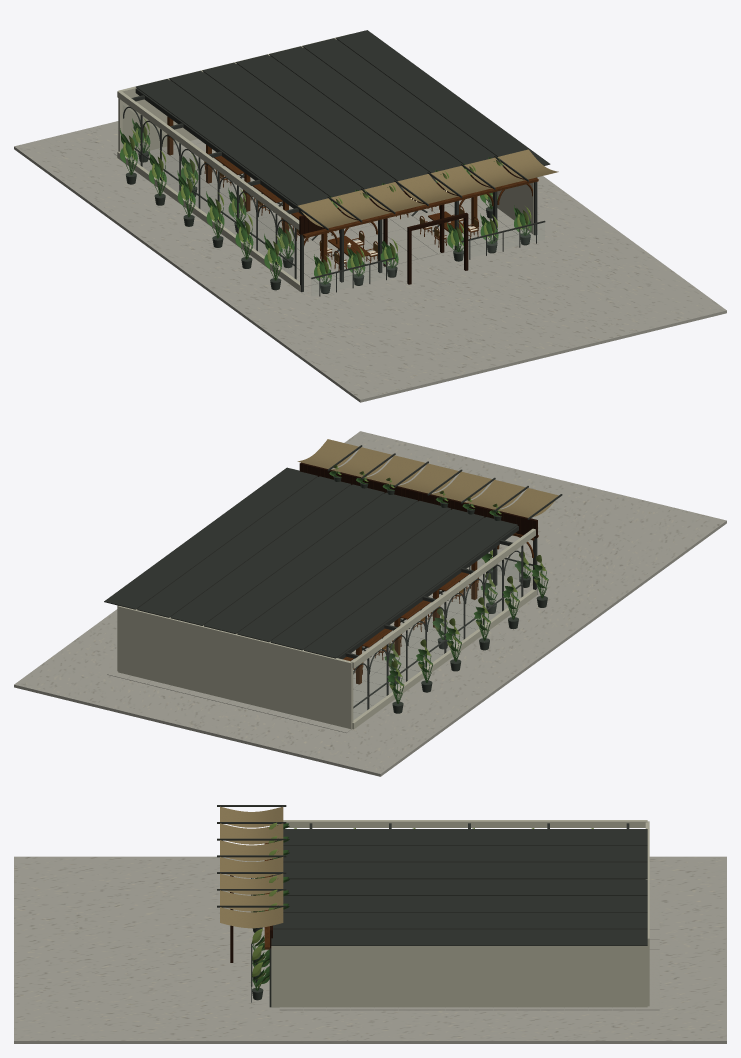
Rendered from mangosteen-entrance-study.glb.
The picture shows the model from 3 angles, top to bottom: view 1: azimuth 30°, elevation 25°; view 2: azimuth 150°, elevation 25°; view 3: azimuth 270°, elevation 25°; orthographic projection. The views are drawn at different scales.
Parts seen in each view (by area): view 1: Static architectural material batch (×15); view 2: Static architectural material batch (×11); view 3: Static architectural material batch (×8).
Boxes of the visible parts, <box> form: Static architectural material batch (×15): <box>14,30,726,402</box>; Static architectural material batch (×11): <box>14,431,726,776</box>; Static architectural material batch (×8): <box>14,805,726,1043</box>.
Size of the model in its own units: 22 by 4.99 by 36.
15 materials, 6 textured.
